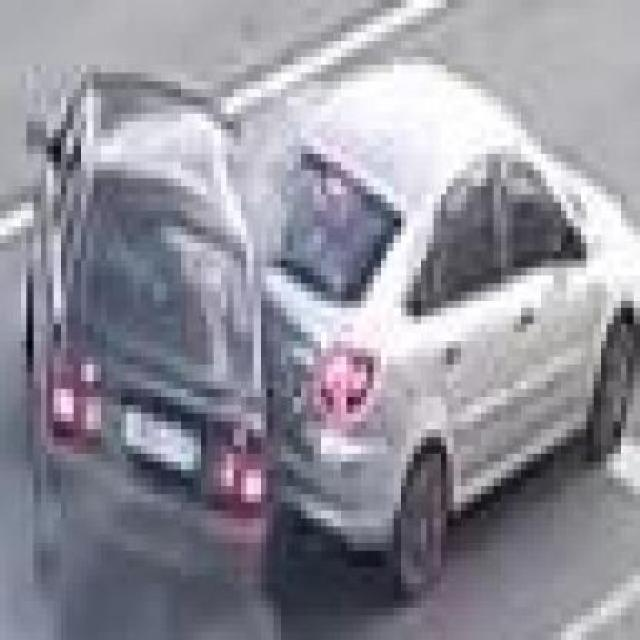accident: (6, 65, 622, 582)
